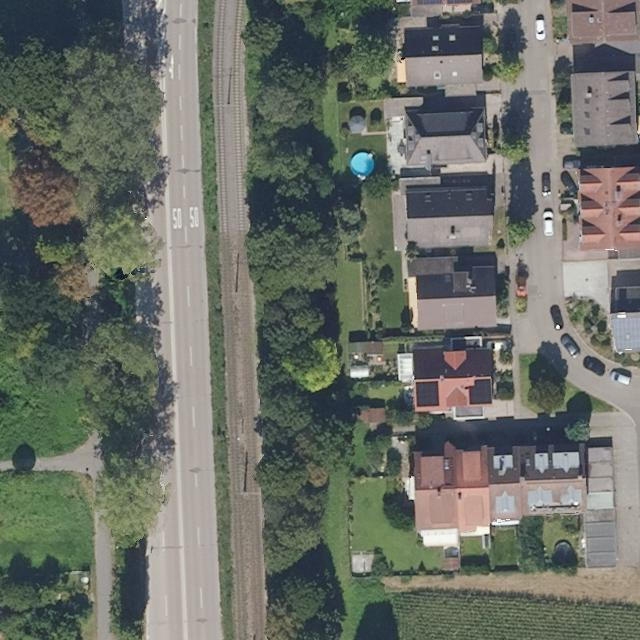PV: (611, 316, 639, 350), (414, 380, 441, 410), (467, 377, 493, 408)
